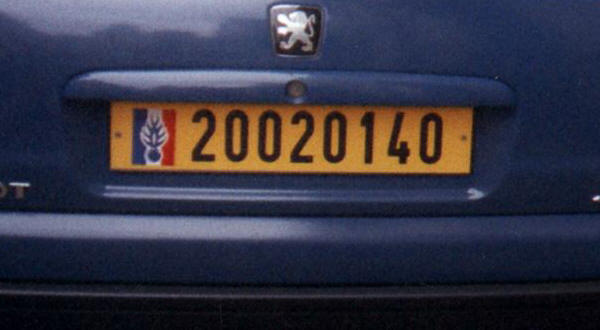license_plate: (110, 99, 475, 174)
